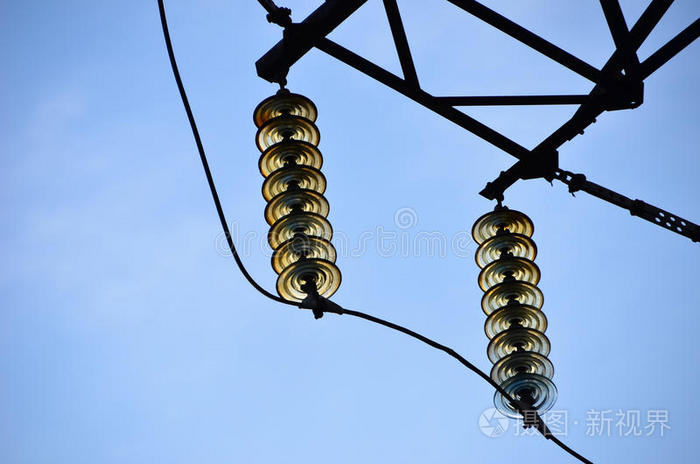insulator: (251, 92, 345, 302), (472, 210, 559, 418)
